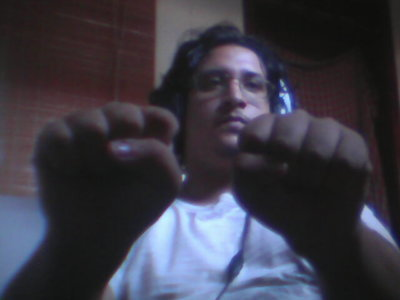closedhandfront: (219, 99, 381, 246), (34, 102, 191, 240)
